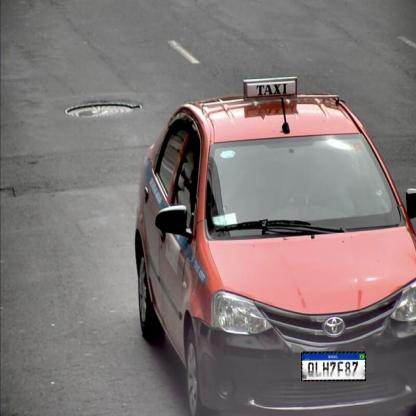PlacaM: (301, 352, 366, 382)
